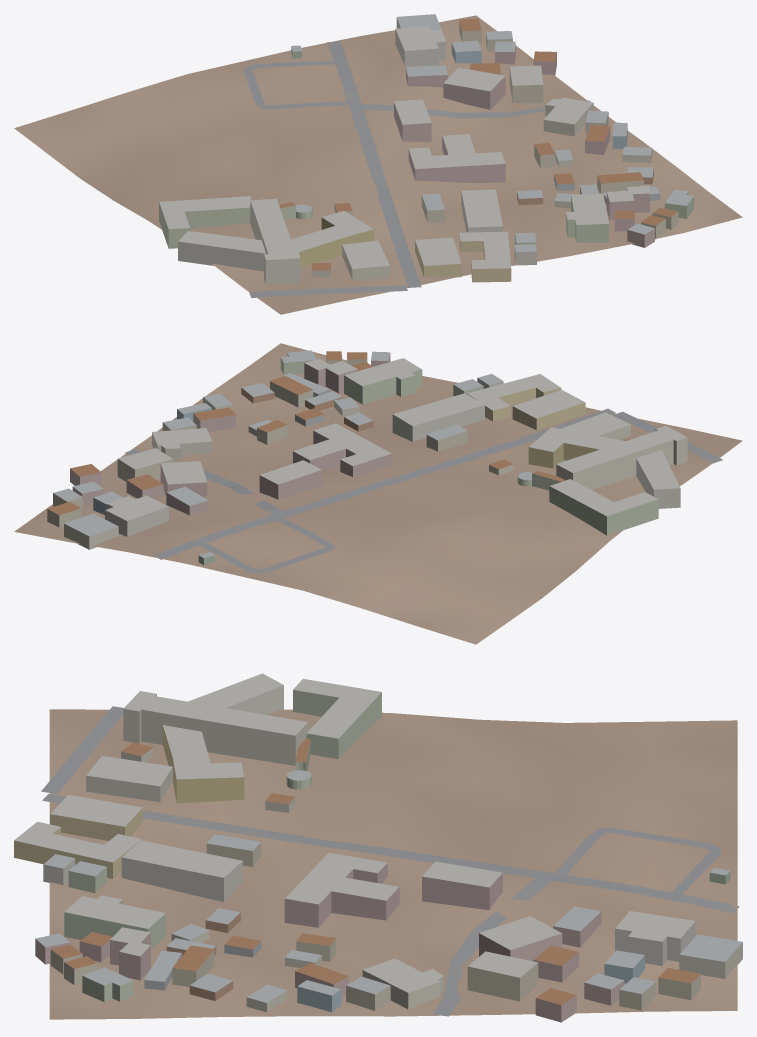
3 renders of one model, top to bottom at view 1: azimuth 30°, elevation 25°; view 2: azimuth 150°, elevation 25°; view 3: azimuth 270°, elevation 25°, orthographic. The views are drawn at different scales.
Parts seen in each view (by area): view 1: Lo; view 2: Lo; view 3: Lo.
Boxes of the visible parts, x1,y1,x2,y2 form: Lo: (14, 14, 742, 314); Lo: (14, 343, 742, 644); Lo: (14, 673, 742, 1022).
Size of the model in its own units: 274 by 21.46 by 271.
